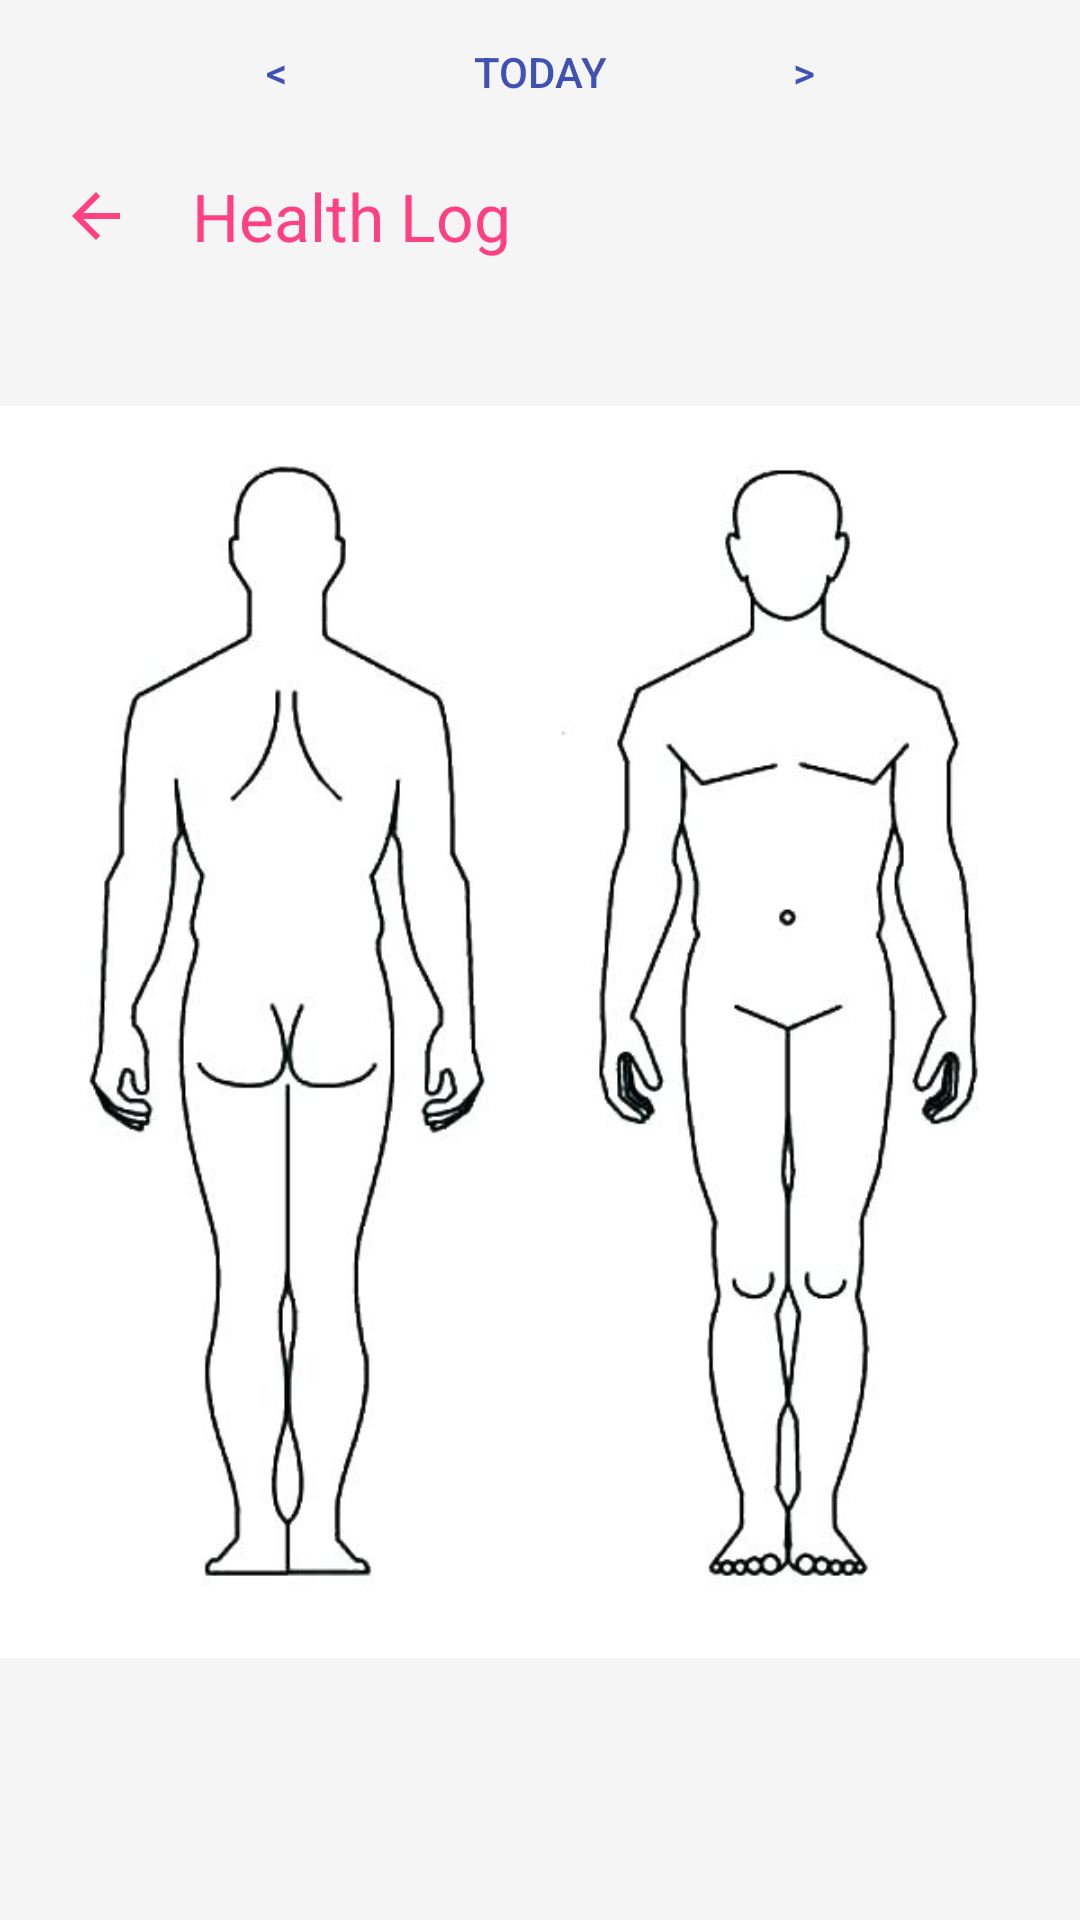

Icon bounding boxes for this 1080px×1920px phone screenshot, format bbox=[x1, y1, x2, y2]:
Back: bbox=[72, 192, 120, 240]
